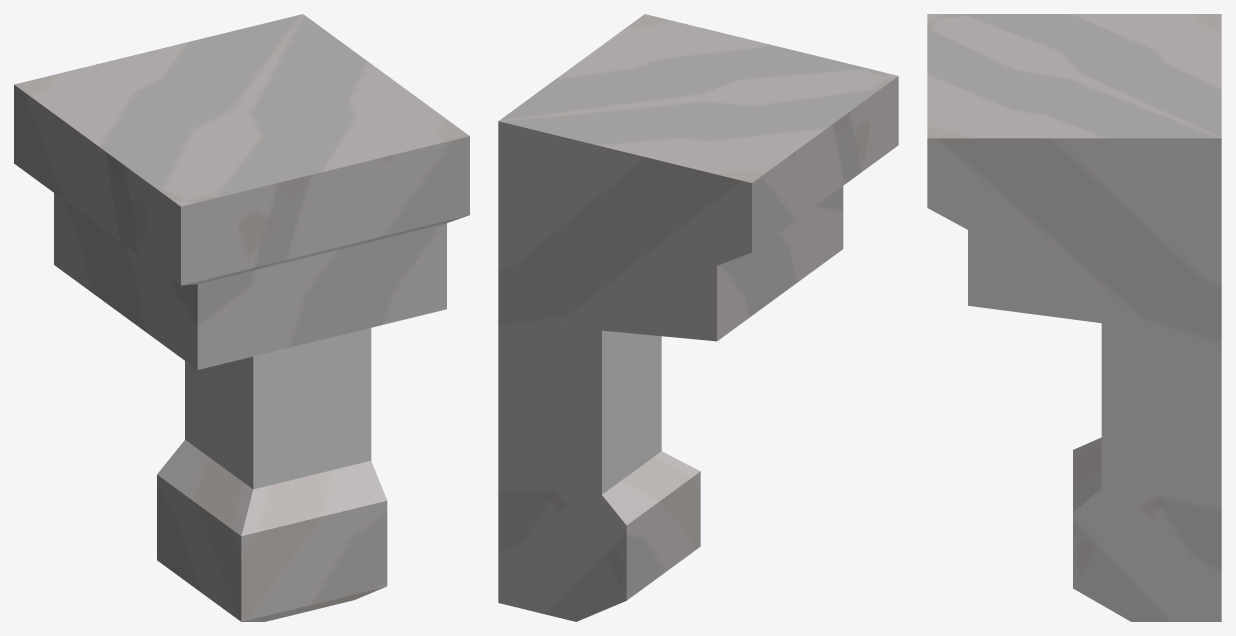
Rendered from SM_Bld_Trim_Large_Corner_01.fbx.
3 renders of one model, left to right at view 1: azimuth 30°, elevation 25°; view 2: azimuth 150°, elevation 25°; view 3: azimuth 270°, elevation 25°, orthographic. The views are drawn at different scales.
Visible parts, largest first — view 1: SM_Bld_Trim_Large_Corner_01; view 2: SM_Bld_Trim_Large_Corner_01; view 3: SM_Bld_Trim_Large_Corner_01.
Part boxes in pixels (bbox=[...]): SM_Bld_Trim_Large_Corner_01: bbox=[14, 14, 469, 621]; SM_Bld_Trim_Large_Corner_01: bbox=[498, 14, 898, 621]; SM_Bld_Trim_Large_Corner_01: bbox=[927, 14, 1221, 621].
Bounding box in the file's own units: 53.2 × 96.49 × 53.2.
